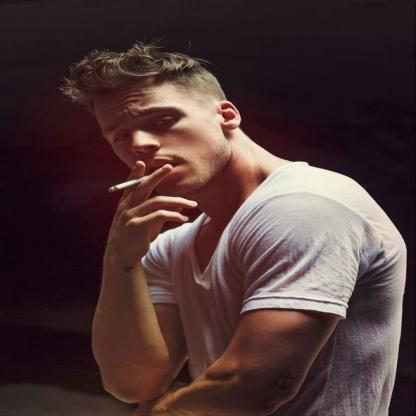cigarette: (106, 175, 147, 195)
person: (54, 29, 415, 416)
